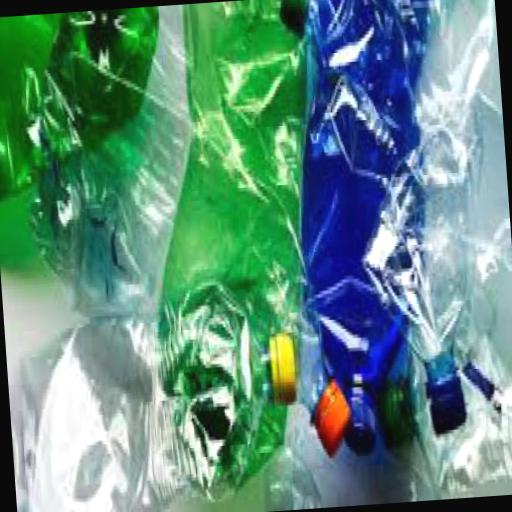plastic: (2, 22, 351, 476), (132, 0, 336, 487), (298, 0, 501, 445), (282, 0, 461, 456), (2, 270, 303, 512), (12, 4, 208, 315), (0, 6, 175, 264), (397, 375, 512, 499), (307, 374, 348, 454), (344, 379, 382, 448), (428, 373, 468, 434), (265, 328, 295, 406), (378, 377, 411, 445)
